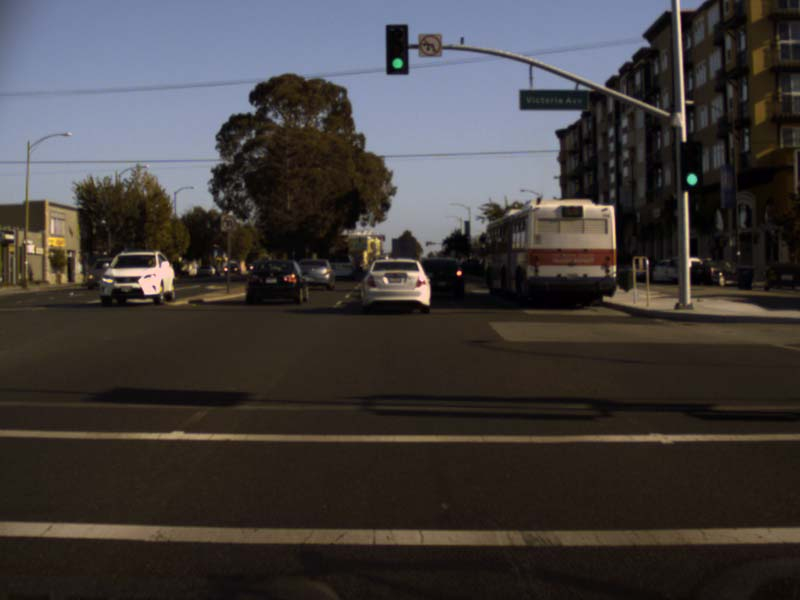Green: (385, 22, 408, 74), (680, 141, 700, 190)
